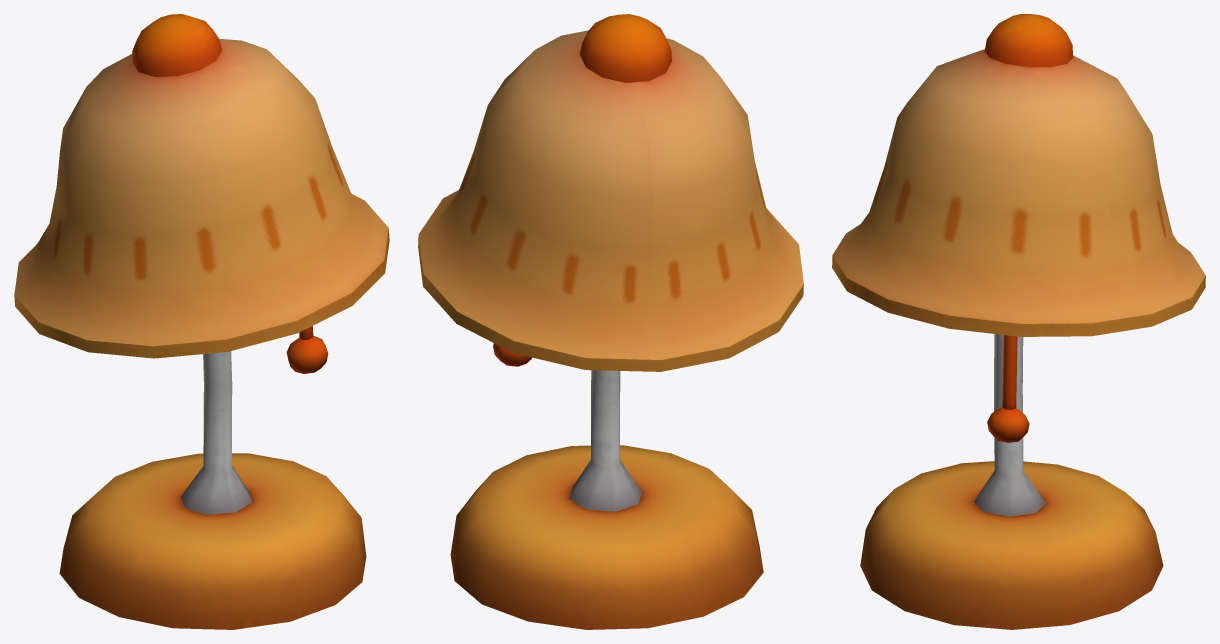
File: LampTable02.FBX
3 views of the same model, side by side, from view 1: azimuth 30°, elevation 25°; view 2: azimuth 150°, elevation 25°; view 3: azimuth 270°, elevation 25° (orthographic). The views are drawn at different scales.
Parts seen in each view (by area): view 1: LampTable02; view 2: LampTable02; view 3: LampTable02.
Part boxes in pixels (x1,y1,x2,y2): LampTable02: (14, 14, 389, 629); LampTable02: (418, 14, 803, 629); LampTable02: (832, 14, 1205, 629).
Size of what is drawn, in the model's own units: 0.2944 by 0.4675 by 0.2959.
